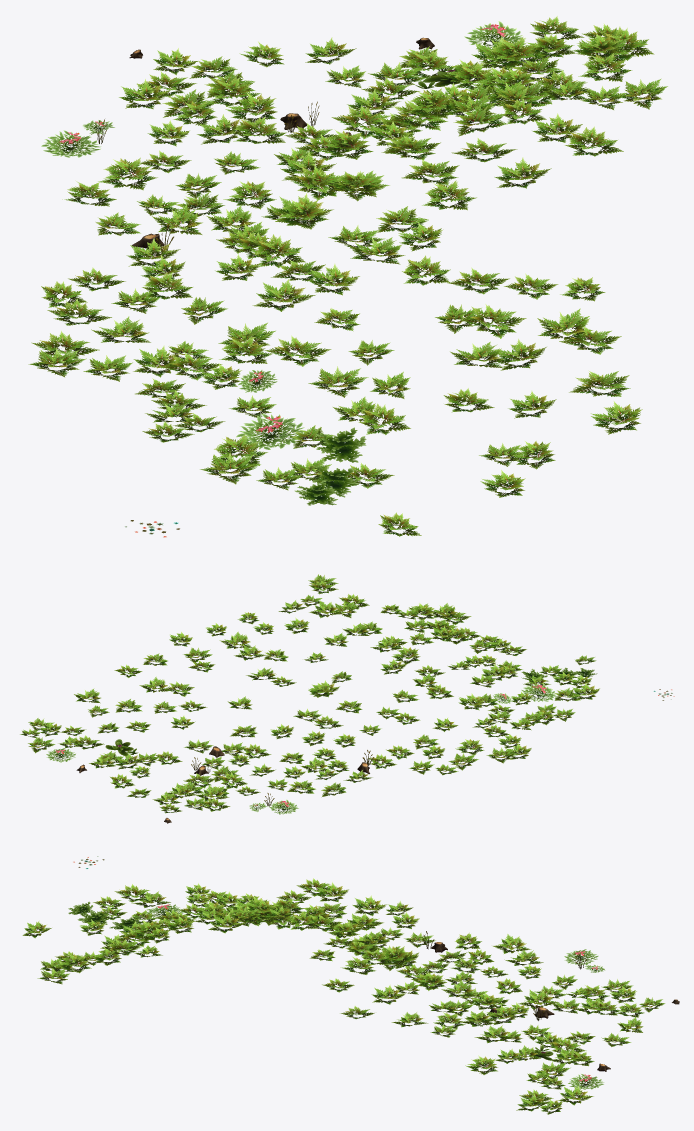
The model's file is Ferns_10.fbx.
The picture shows the model from 3 angles, top to bottom: view 1: azimuth 30°, elevation 25°; view 2: azimuth 150°, elevation 25°; view 3: azimuth 270°, elevation 25°; orthographic projection. The views are drawn at different scales.
Parts seen in each view (by area): view 1: Ferns_10; view 2: Ferns_10; view 3: Ferns_10.
Part boxes in pixels (x1,y1,x2,y2): Ferns_10: (28, 16, 667, 537); Ferns_10: (20, 574, 674, 823); Ferns_10: (22, 856, 679, 1114).
Bounding box in the file's own units: 7669 × 1635 × 8100.
